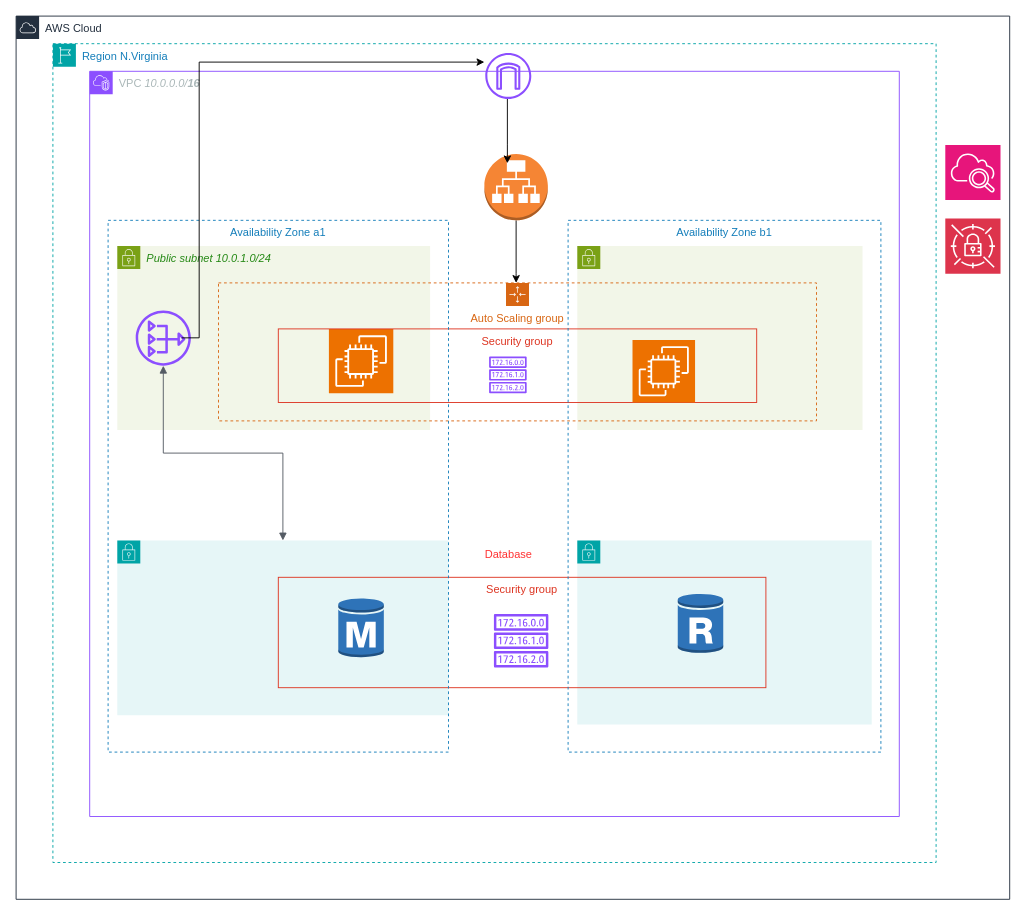
This 1026x915 diagram has some shape labels left out. Each missing label, with the centre of its shape:
Private Subnet 10.0.5.0/24: the point at 282,627
Private subnet 10.0.6.0/24: the point at 724,632
Public subnet 10.0.2.0/24: the point at 719,337
